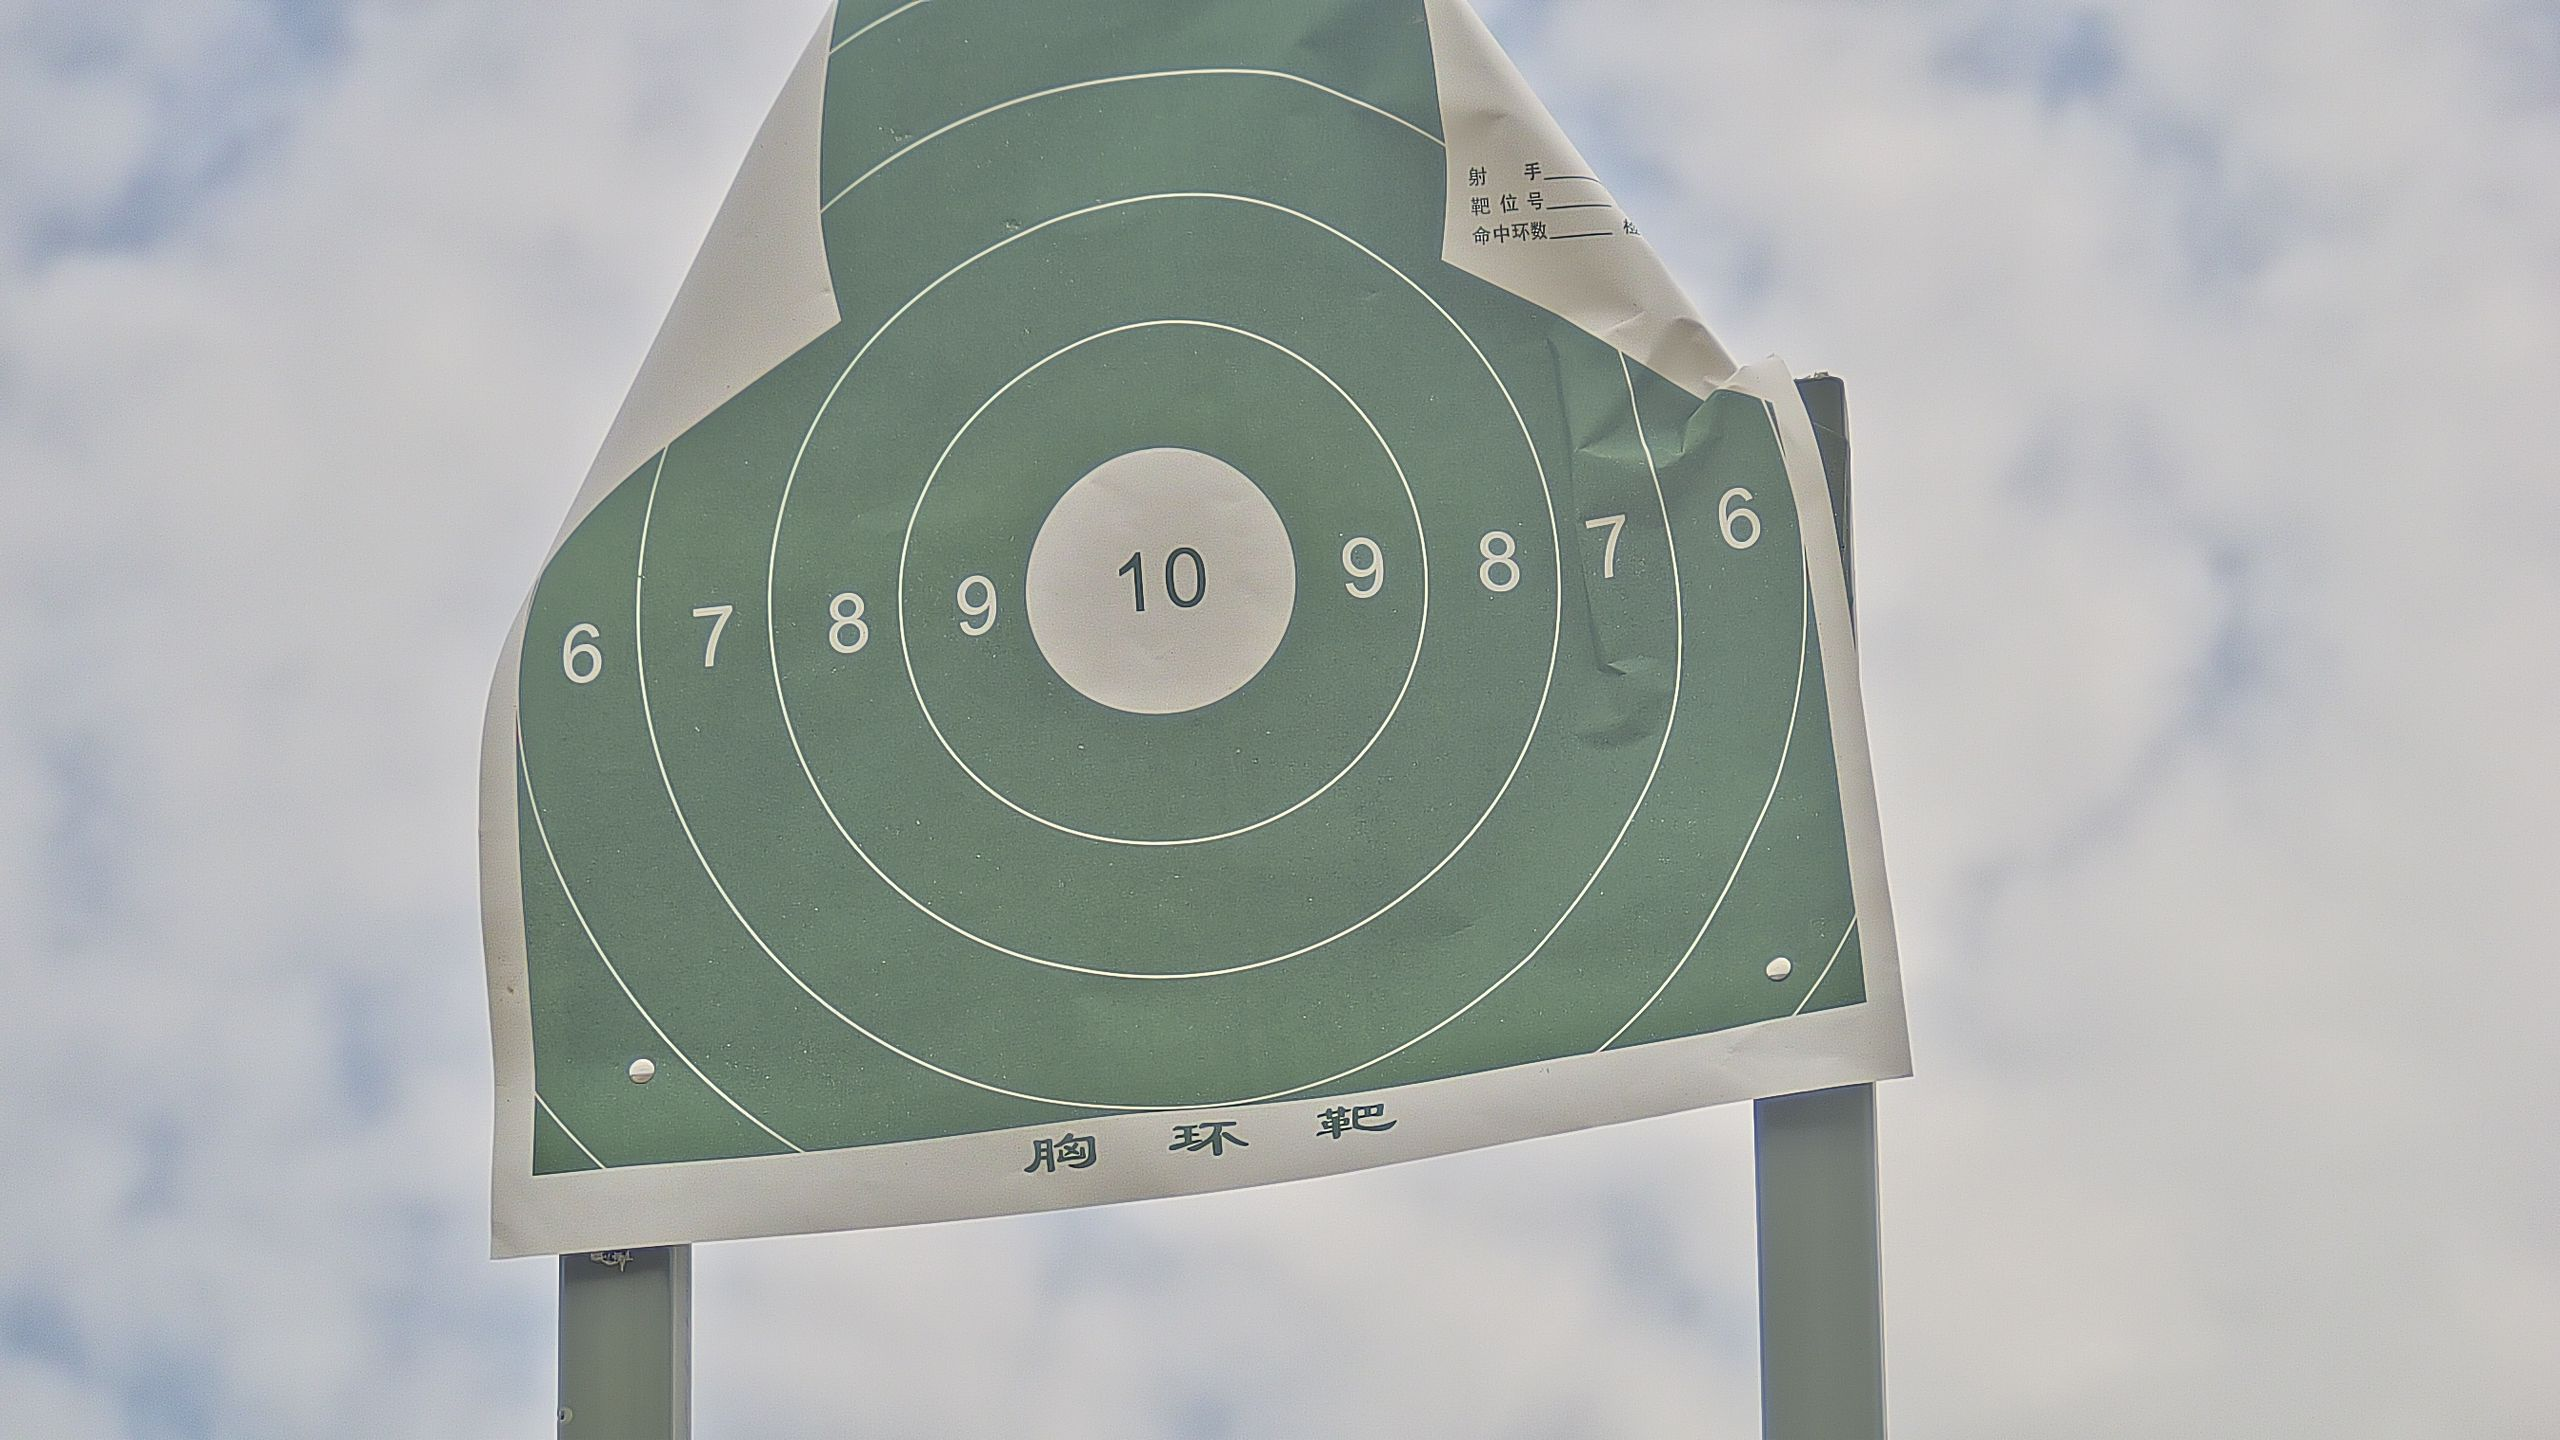kernel: (1152, 580, 1159, 585)
target: (512, 5, 1887, 1189)
ten: (1027, 447, 1299, 717)
